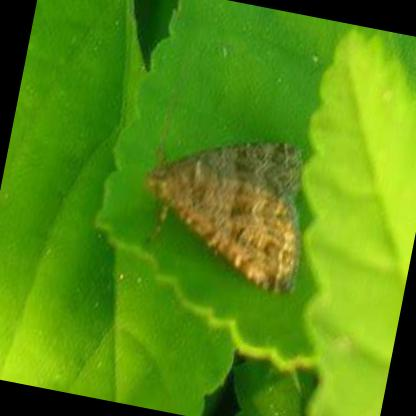Hellula undalis: (140, 136, 305, 291)
